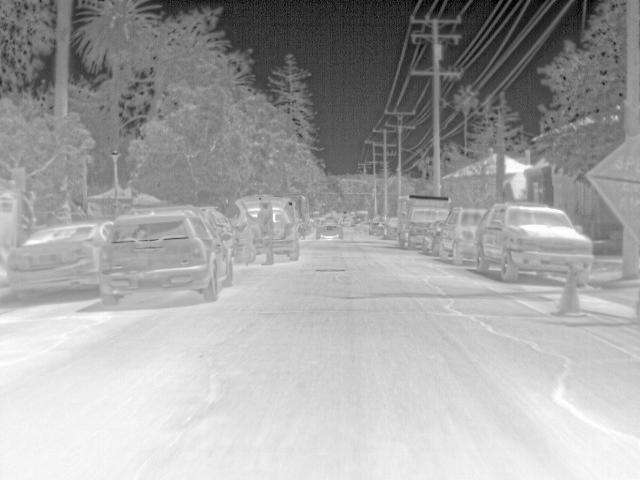car: (96, 207, 239, 307), (475, 202, 594, 288), (6, 218, 120, 298), (435, 207, 487, 268), (272, 198, 301, 260), (314, 217, 347, 242), (382, 214, 399, 239), (369, 218, 386, 236)
person: (253, 197, 276, 266)
